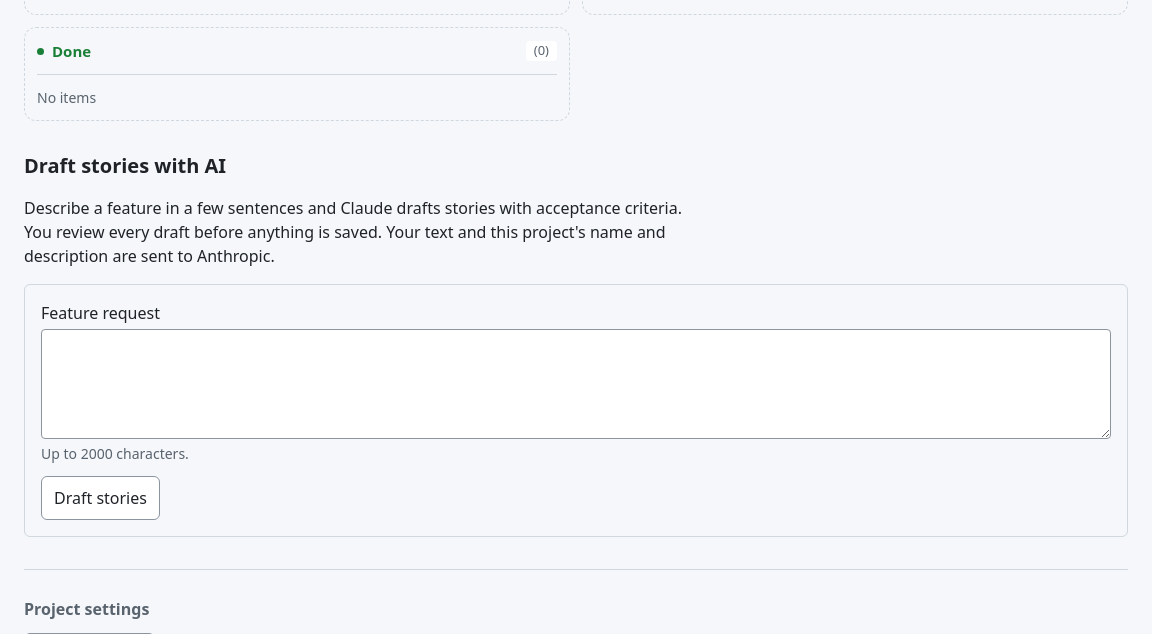
Test: AI story drafter › shows the server error and keeps the typed request
(page scrolled)
In the text box labelled "Feature request": (576, 384) [41,329,1111,439], type "Something odd"
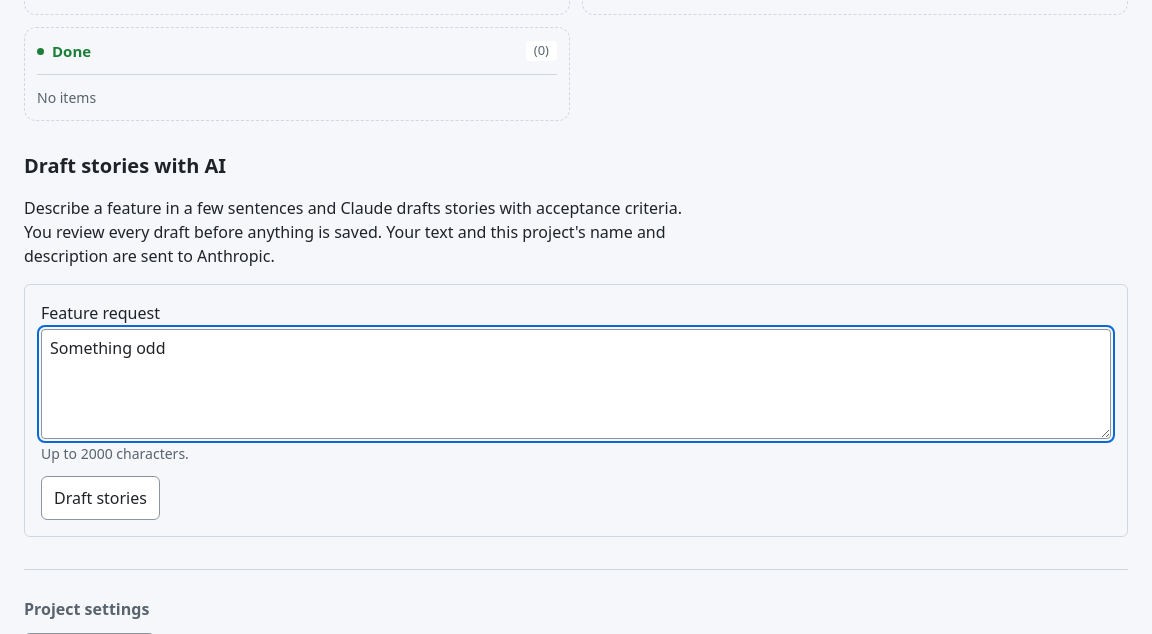
Click the button "Draft stories": click(100, 498) [41,476,160,520]
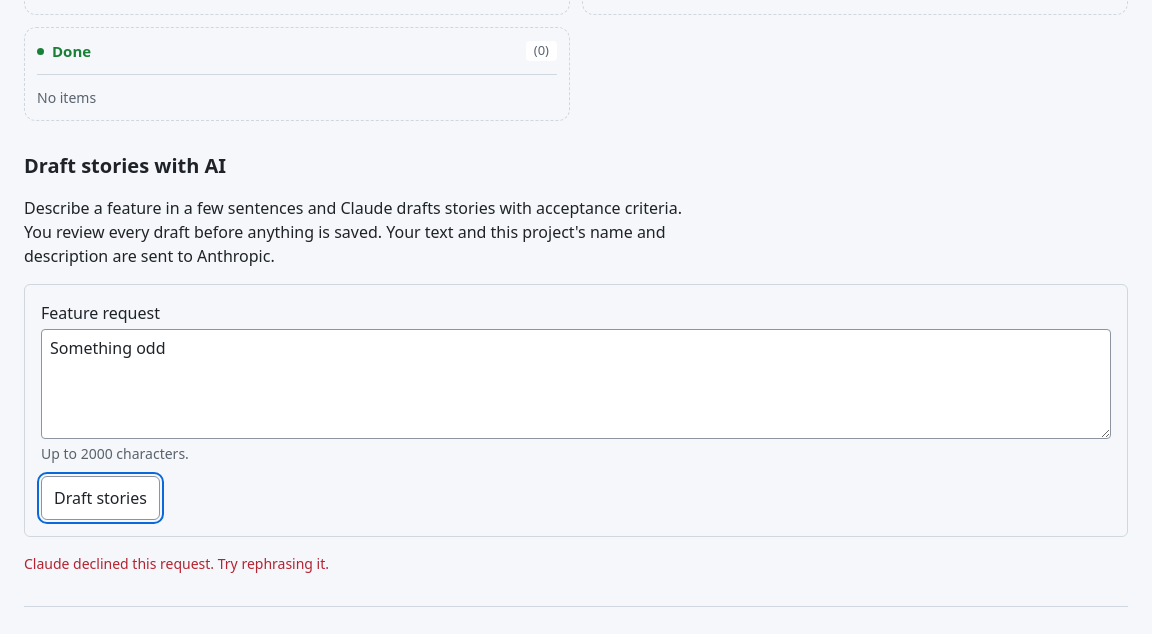
Check: the message reads "Claude declined this request. Try rephrasing it.", box [24,554,329,573]
